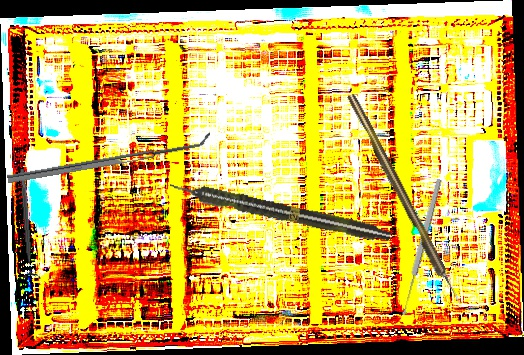Fixation Ring: (14, 168, 41, 281)
Handpiece: (167, 175, 393, 247)
Hook Surgical: (346, 92, 463, 308)
Spatula Surgical: (5, 131, 213, 184)
Surgical Spoon: (399, 178, 443, 316)
